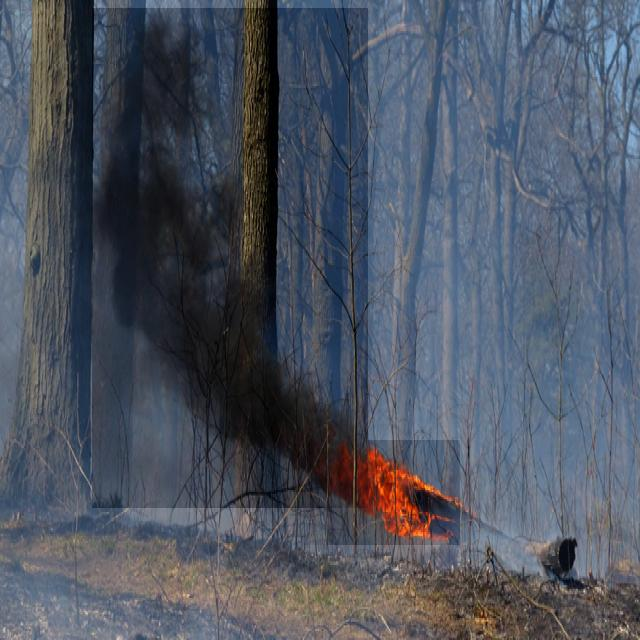Fire: (326, 440, 460, 545)
Smoke: (92, 8, 368, 508)
